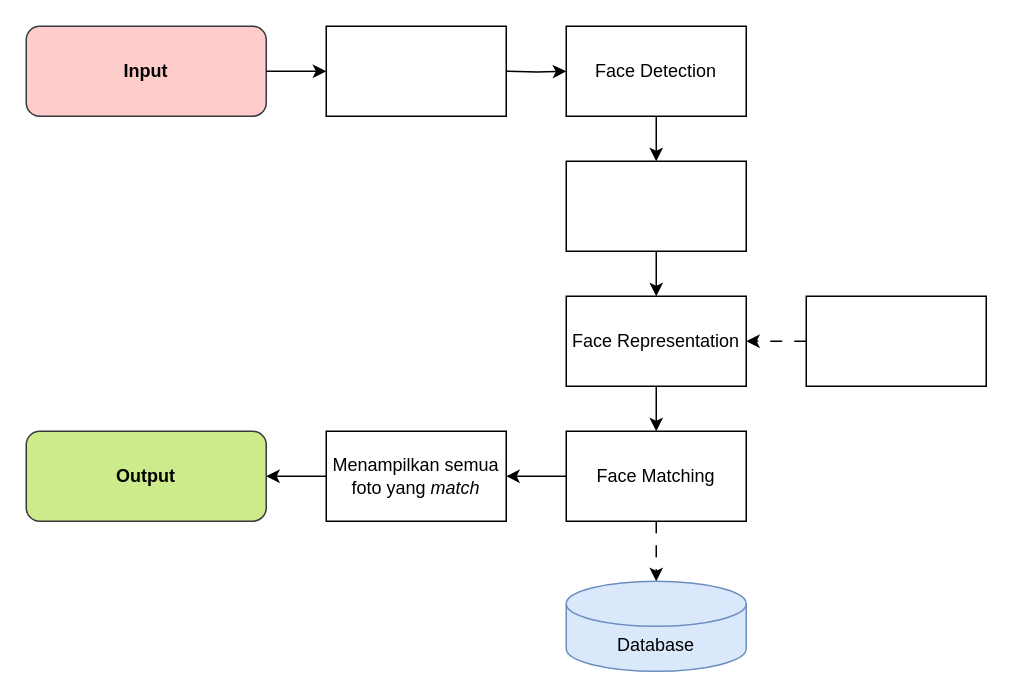
Image size: 1013x698. Some labels were removed from this diagram. Here are the shapes that lost their labels. From the top down, the centre of each, then its label:
At point (415, 70): "User Upload Selfie".
At point (655, 205): "Face Alignment".
At point (895, 340): "Hasil vektor foto selfie".
